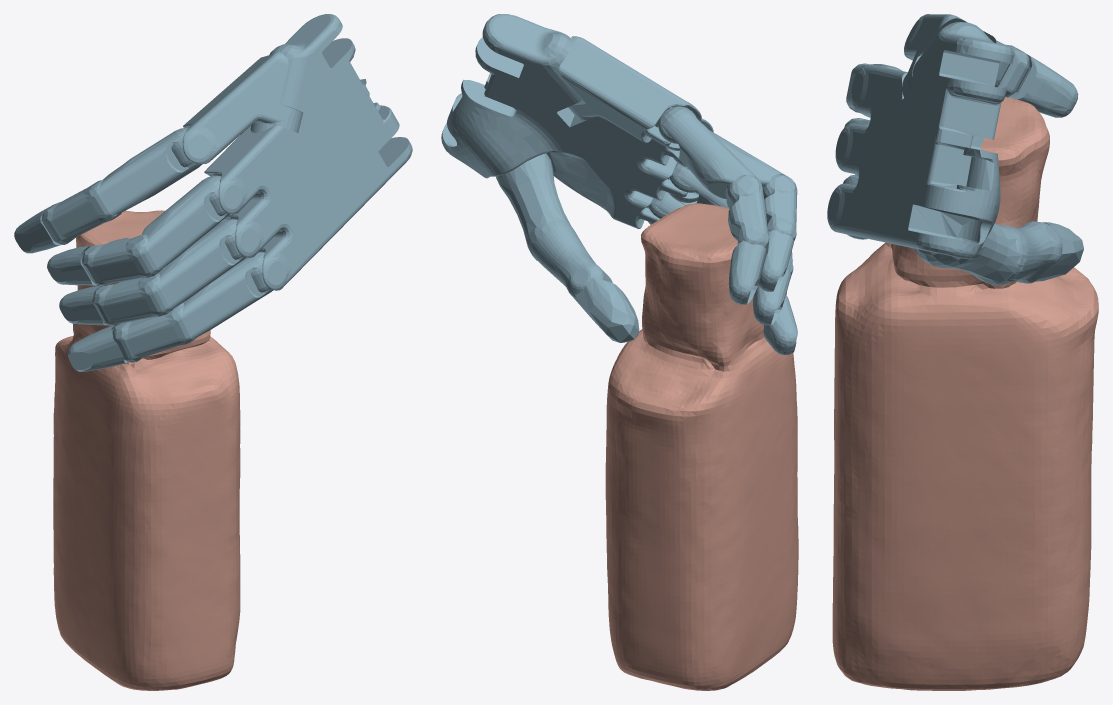
The model's file is 4_joint.glb.
The picture shows the model from 3 angles, left to right: view 1: azimuth 30°, elevation 25°; view 2: azimuth 150°, elevation 25°; view 3: azimuth 270°, elevation 25°; orthographic projection. The views are drawn at different scales.
Visible parts, largest first — view 1: world; view 2: world; view 3: world.
Boxes of the visible parts, x1=… form: world: x1=14, y1=14, x2=412, y2=690; world: x1=441, y1=14, x2=798, y2=690; world: x1=827, y1=14, x2=1098, y2=690.
Size of the model in its own units: 1.21 by 1.96 by 0.6498.
